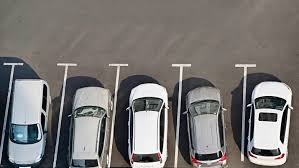car: (122, 79, 171, 168), (3, 80, 51, 165), (186, 83, 233, 167), (250, 77, 293, 168), (73, 81, 114, 168)
